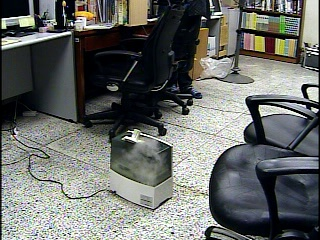smoke: (115, 134, 167, 182)
